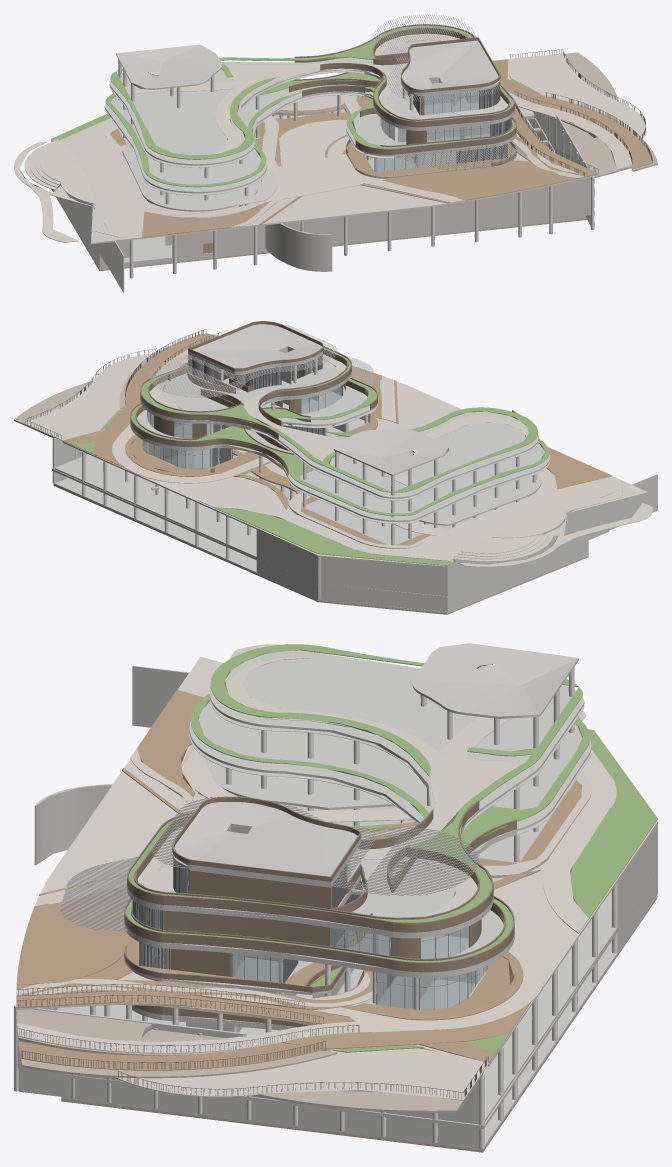
Rendered from arboretum-col.glb.
The picture shows the model from 3 angles, top to bottom: view 1: azimuth 30°, elevation 25°; view 2: azimuth 150°, elevation 25°; view 3: azimuth 270°, elevation 25°; orthographic projection. The views are drawn at different scales.
Visible parts, largest first — view 1: Floor E.P. - 30 cm [4710], Floor Por defecto - 30 cm [3033], Floor madera [4755], Floor Por defecto - 30 cm [5615], Floor Por defecto - 30 cm [5188], Floor Por defecto - 30 cm [5686], Floor textura 7 [6169], M_Pilar redondo Diámetro 0.7 m [4837], Floor Por defecto - 30 cm [4669], Basic Wall MURO EXTERIOR 0.15m [6155], Basic Wall Por defecto - 20 cm [3106], Floor césped [6519] (+11 smaller); view 2: Floor E.P. - 30 cm [4710], Basic Wall Por defecto - 20 cm [3106], Floor Por defecto - 30 cm [5686], Floor Por defecto - 30 cm [5615], Floor Por defecto - 30 cm [3033], Floor Por defecto - 30 cm [5188], Floor madera [4755], Floor Por defecto - 30 cm [4669], M_Pilar redondo Diámetro 0.7 m [4837], Basic Wall MURO EXTERIOR 0.15m [6155], Floor césped [6519], Floor césped [6522] (+11 smaller); view 3: Floor E.P. - 30 cm [4710], Floor madera [4755], Floor Por defecto - 30 cm [5686], Floor Por defecto - 30 cm [5615], Floor Por defecto - 30 cm [5188], Basic Wall Por defecto - 20 cm [3106], Floor Por defecto - 30 cm [3033], Basic Wall MURO EXTERIOR 0.15m [6155], Basic Wall MURO EXTERIOR 0.15m [5632], Floor textura 7 [6169], Floor Por defecto - 30 cm [4669], Pad 300 mm [4974] (+14 smaller).
Boxes of the visible parts, box(x1,y1,x2,y2) form: Floor E.P. - 30 cm [4710]: box(14, 53, 646, 244); Floor Por defecto - 30 cm [3033]: box(51, 106, 590, 292); Floor madera [4755]: box(110, 59, 652, 237); Floor Por defecto - 30 cm [5615]: box(109, 40, 514, 167); Floor Por defecto - 30 cm [5188]: box(104, 84, 517, 195); Floor Por defecto - 30 cm [5686]: box(116, 14, 501, 101); Floor textura 7 [6169]: box(125, 33, 508, 159); M_Pilar redondo Diámetro 0.7 m [4837]: box(118, 59, 594, 278); Floor Por defecto - 30 cm [4669]: box(106, 108, 516, 211); Basic Wall MURO EXTERIOR 0.15m [6155]: box(294, 24, 514, 127); Basic Wall Por defecto - 20 cm [3106]: box(52, 111, 590, 269); Floor césped [6519]: box(110, 25, 513, 159); Floor E.P. - 30 cm [4710]: box(24, 350, 652, 567); Basic Wall Por defecto - 20 cm [3106]: box(53, 437, 588, 613); Floor Por defecto - 30 cm [5686]: box(149, 324, 449, 476); Floor Por defecto - 30 cm [5615]: box(140, 347, 538, 500); Floor Por defecto - 30 cm [3033]: box(52, 409, 657, 597); Floor Por defecto - 30 cm [5188]: box(130, 356, 550, 523); Floor madera [4755]: box(63, 333, 612, 548); Floor Por defecto - 30 cm [4669]: box(142, 418, 541, 548); M_Pilar redondo Diámetro 0.7 m [4837]: box(52, 358, 593, 599); Basic Wall MURO EXTERIOR 0.15m [6155]: box(140, 346, 351, 439); Floor césped [6519]: box(141, 347, 538, 492); Floor césped [6522]: box(131, 379, 549, 515); Floor E.P. - 30 cm [4710]: box(16, 644, 657, 1100); Floor madera [4755]: box(16, 689, 590, 1070); Floor Por defecto - 30 cm [5686]: box(151, 643, 578, 895); Floor Por defecto - 30 cm [5615]: box(127, 651, 584, 938); Floor Por defecto - 30 cm [5188]: box(60, 702, 591, 977); Basic Wall Por defecto - 20 cm [3106]: box(18, 824, 657, 1150); Floor Por defecto - 30 cm [3033]: box(17, 665, 657, 1128); Basic Wall MURO EXTERIOR 0.15m [6155]: box(127, 800, 493, 932); Basic Wall MURO EXTERIOR 0.15m [5632]: box(124, 819, 516, 972); Floor textura 7 [6169]: box(137, 657, 524, 916); Floor Por defecto - 30 cm [4669]: box(124, 758, 590, 1009); Pad 300 mm [4974]: box(16, 1009, 482, 1112).
Size of the model in its own units: 129 by 26.75 by 75.79.
